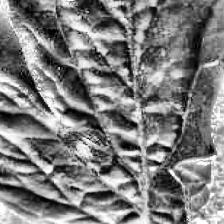Angular Leafspot: (54, 118, 120, 177)
